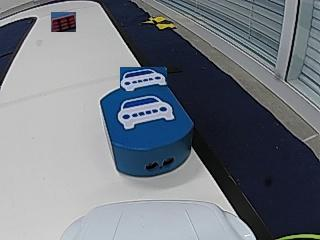safety: (118, 95, 176, 129)
